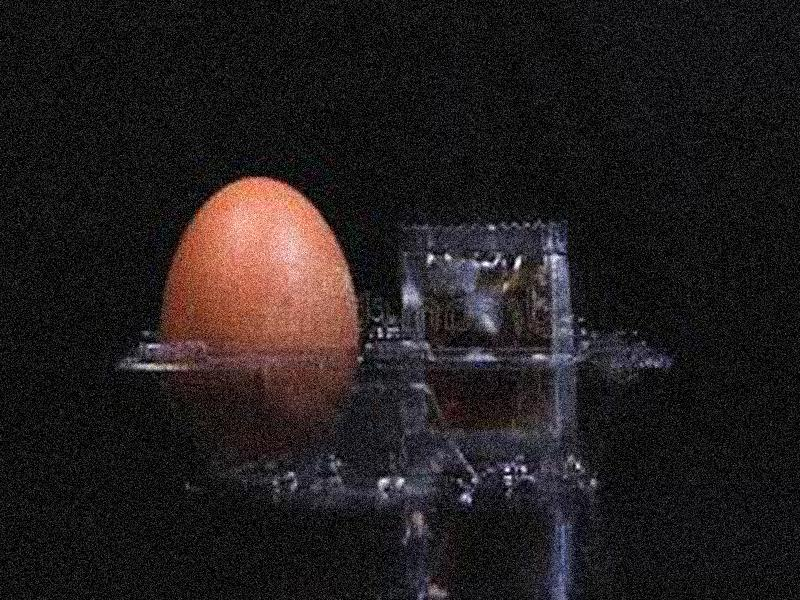Eggs: (156, 177, 357, 472)
